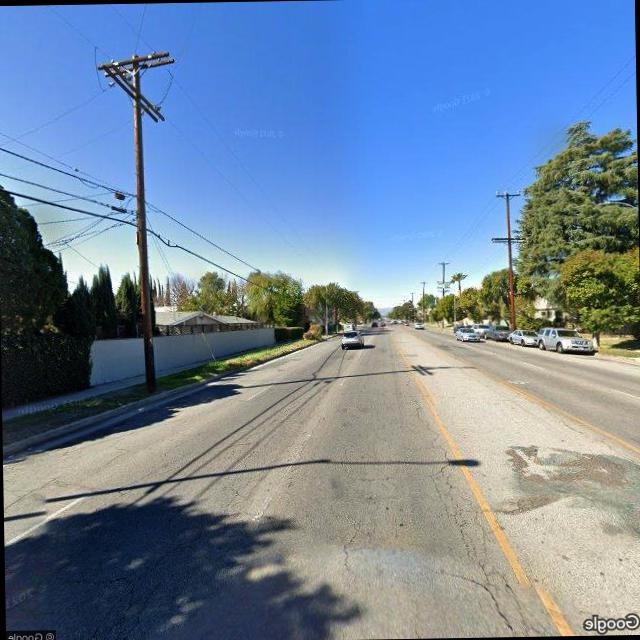crack: (82, 542, 182, 638)
pothole: (418, 402, 516, 634)
